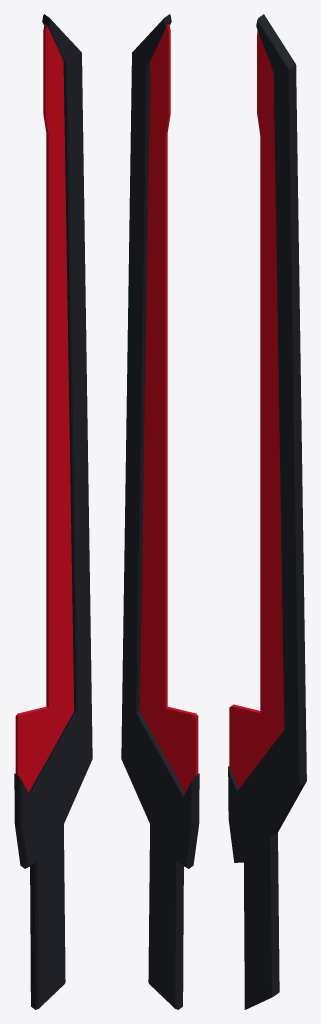
Rendered from sword.FBX.
3 views of the same model, side by side, from view 1: azimuth 30°, elevation 25°; view 2: azimuth 150°, elevation 25°; view 3: azimuth 330°, elevation 25° (orthographic).
Visible parts, largest first — view 1: object_1, object_2; view 2: object_1, object_2; view 3: object_1, object_2.
Boxes of the visible parts, left/top/right/bottom form: object_1: left=14, top=14, right=92, bottom=1009; object_2: left=15, top=24, right=74, bottom=792; object_1: left=121, top=14, right=199, bottom=1009; object_2: left=139, top=24, right=198, bottom=792; object_1: left=228, top=14, right=306, bottom=1009; object_2: left=229, top=30, right=284, bottom=788.
Size of the model in its own units: 130 by 1673 by 21.58.
